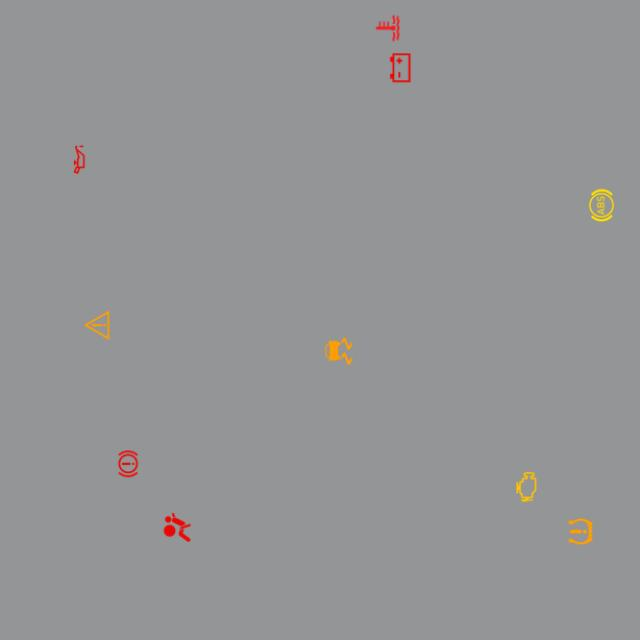Anti Lock Braking System: (584, 188, 619, 223)
Braking System Issue: (110, 446, 146, 482)
Charging System Issue: (383, 50, 418, 86)
Check Engine: (509, 469, 544, 505)
Electronic Stability Problem -ESP-: (321, 334, 357, 369)
Engine Overheating Warning Light: (370, 10, 406, 46)
Low Engine Oil Warning Light: (61, 142, 97, 177)
Low Tire Pressure Warning Light: (563, 514, 598, 549)
Master warning light: (79, 307, 115, 343)
SRS-Airbag: (159, 510, 195, 545)
